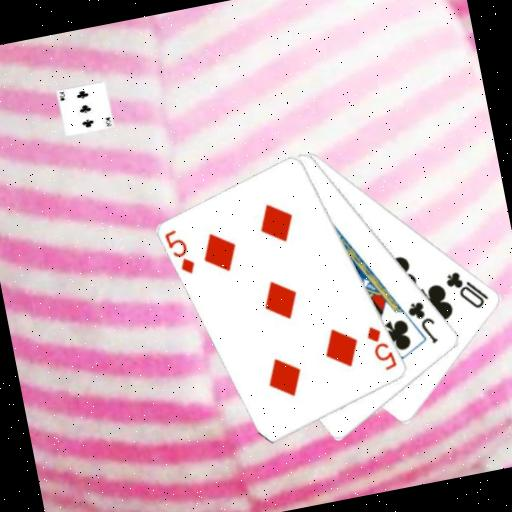10C: (441, 263, 493, 316)
5D: (161, 224, 199, 280), (362, 320, 400, 375)
JC: (403, 296, 441, 350)
